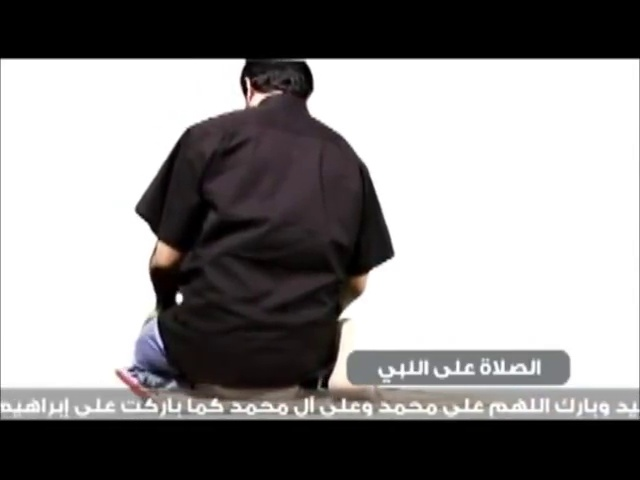sitting: (128, 59, 398, 400)
